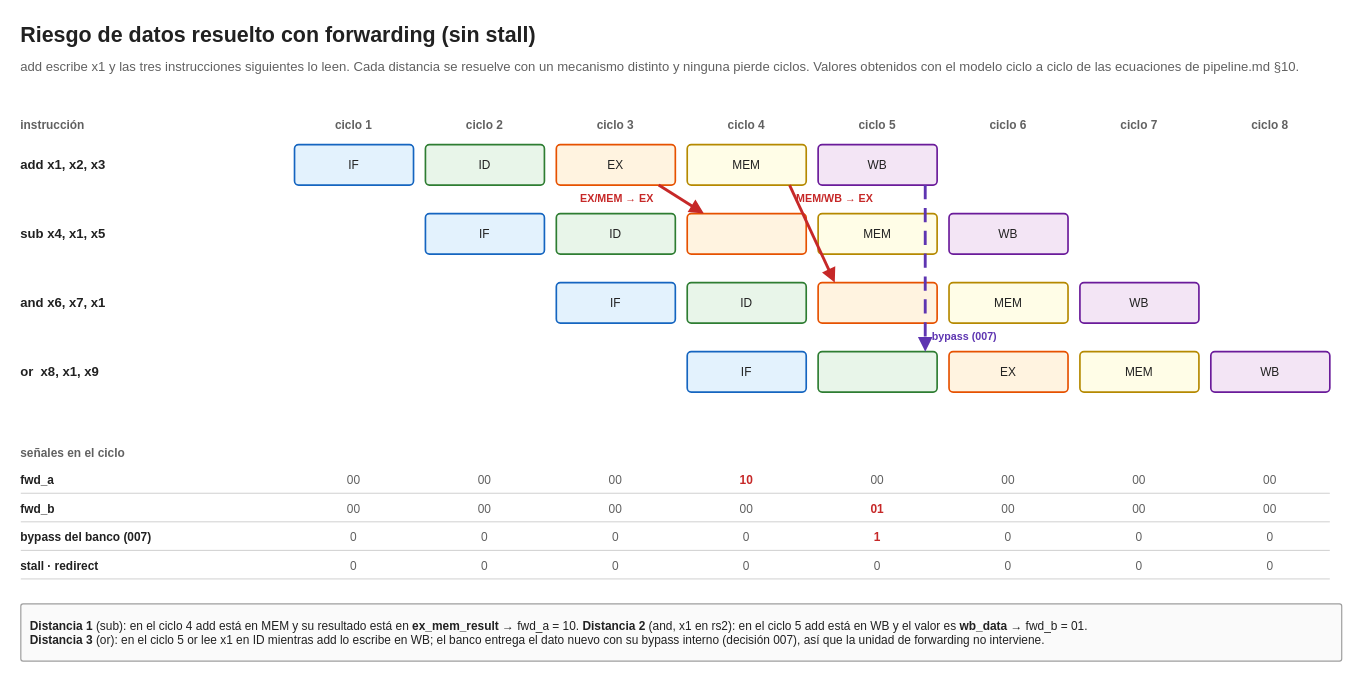
Image size: 1363x682. Some labels were removed from this diagram. Here are the shapes that lost their labels. From the top down, the centre of each, then its label:
the point at 746,233: EX fwd_a = 10
the point at 877,302: EX fwd_b = 01
the point at 877,371: ID lee x1: bypass
